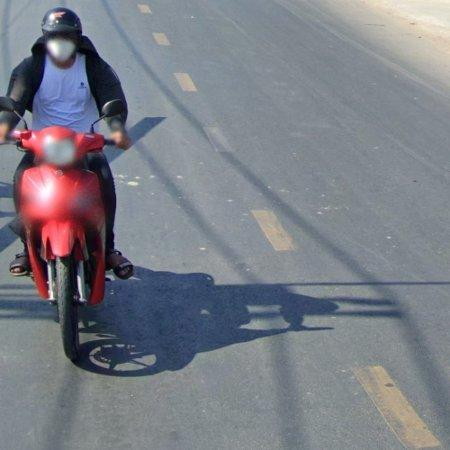motorcycles: (8, 99, 124, 361)
